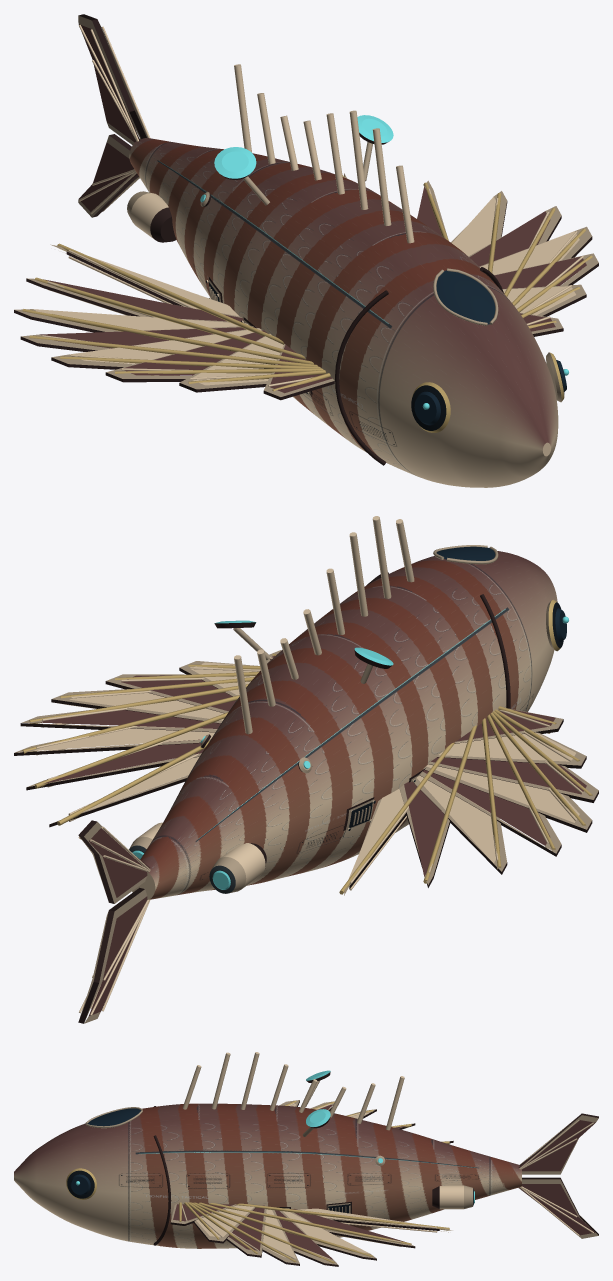
File: ship.glb
3 renders of one model, top to bottom at view 1: azimuth 30°, elevation 25°; view 2: azimuth 150°, elevation 25°; view 3: azimuth 270°, elevation 25°, orthographic. The views are drawn at different scales.
Visible parts, largest first — view 1: lionfish_hull; view 2: lionfish_hull; view 3: lionfish_hull.
Part boxes in pixels (<box>): lionfish_hull: <box>14,14,598,487</box>; lionfish_hull: <box>14,516,598,1023</box>; lionfish_hull: <box>14,1052,598,1266</box>.
Bounding box in the file's own units: 45.14 × 24.54 × 68.
Materials: 1 (1 with a texture image).
